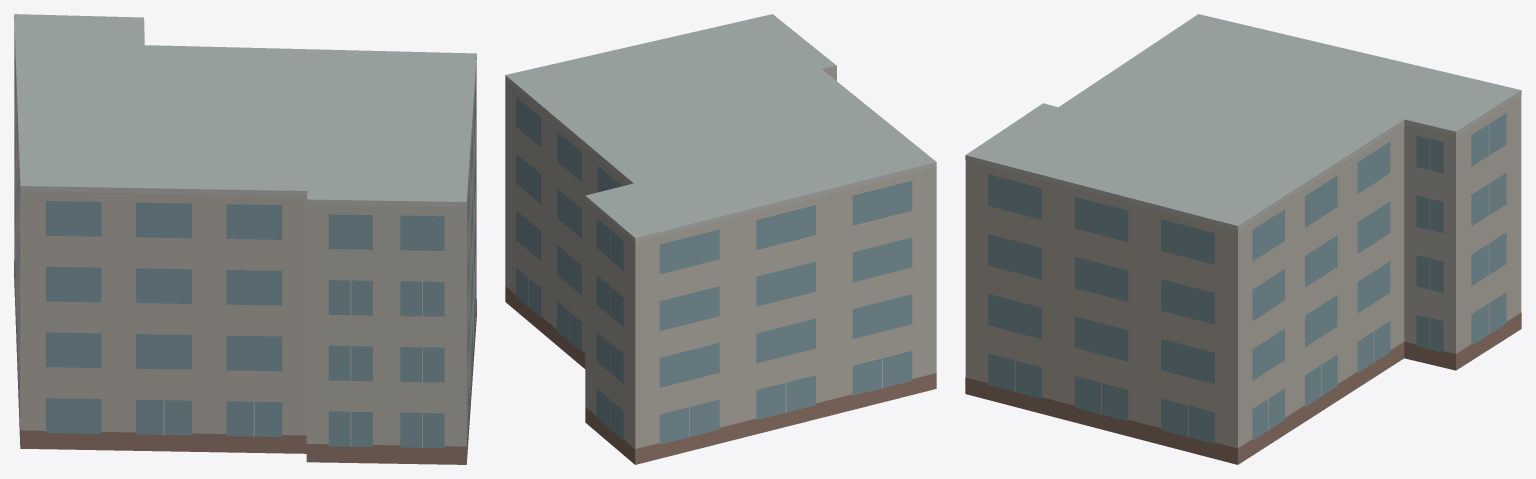
The model's file is survey-upis-32645014.glb.
3 renders of one model, left to right at view 1: azimuth 30°, elevation 25°; view 2: azimuth 150°, elevation 25°; view 3: azimuth 270°, elevation 25°, orthographic. The views are drawn at different scales.
Parts seen in each view (by area): view 1: survey-upis-32645014.tmp; view 2: survey-upis-32645014.tmp; view 3: survey-upis-32645014.tmp.
Boxes of the visible parts, bbox=[...] form: survey-upis-32645014.tmp: bbox=[14, 14, 476, 464]; survey-upis-32645014.tmp: bbox=[505, 14, 936, 464]; survey-upis-32645014.tmp: bbox=[965, 14, 1521, 464].
Bounding box in the file's own units: 23.24 × 12.2 × 25.74.
